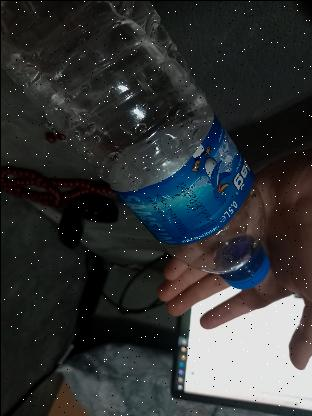Plastic Bottle: (0, 0, 276, 289)
